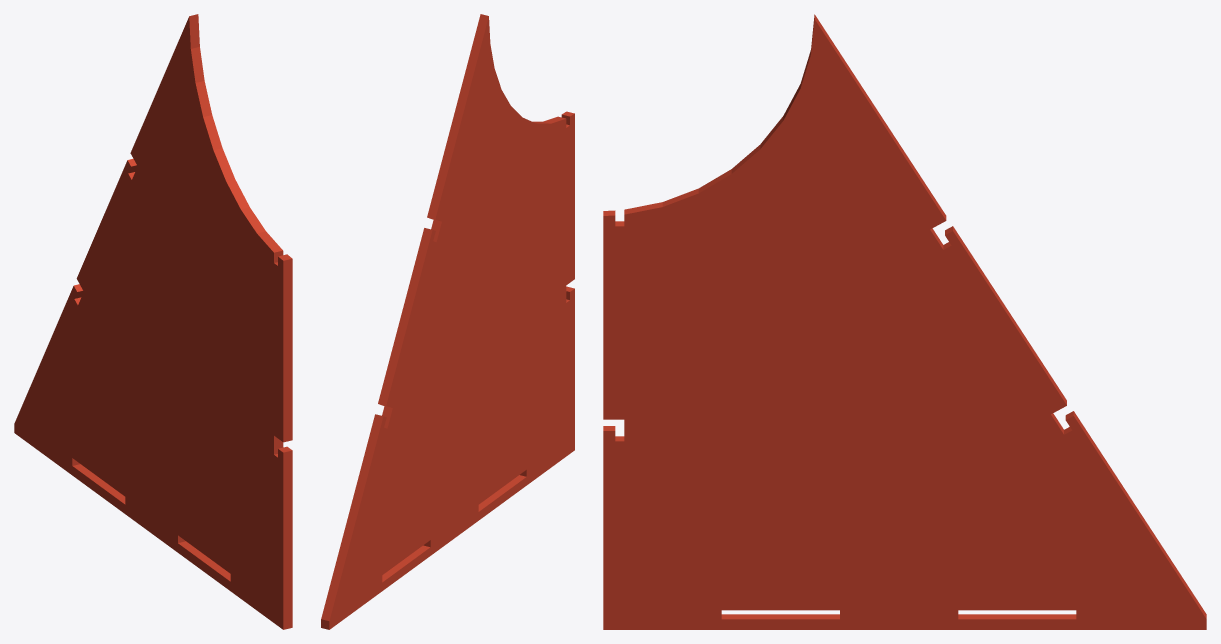
File: seitenwand.dae
The picture shows the model from 3 angles, left to right: view 1: azimuth 30°, elevation 25°; view 2: azimuth 150°, elevation 25°; view 3: azimuth 270°, elevation 25°; orthographic projection. The views are drawn at different scales.
Visible parts, largest first — view 1: ShapeIndexedFaceSet_001; view 2: ShapeIndexedFaceSet_001; view 3: ShapeIndexedFaceSet_001.
Part boxes in pixels (x1,y1,x2,y2): ShapeIndexedFaceSet_001: (14,14,292,629); ShapeIndexedFaceSet_001: (321,14,574,629); ShapeIndexedFaceSet_001: (603,14,1206,629).
Size of the model in its own units: 0.02 by 1.02 by 1.14.
